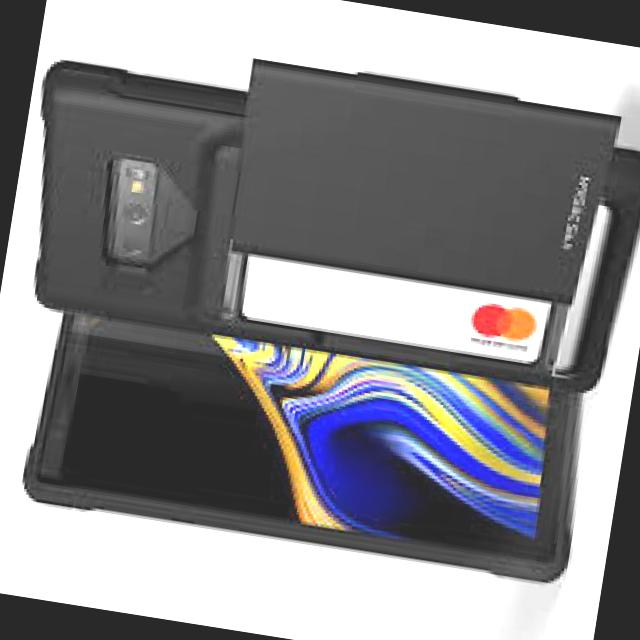lens_back: (116, 192, 156, 233)
